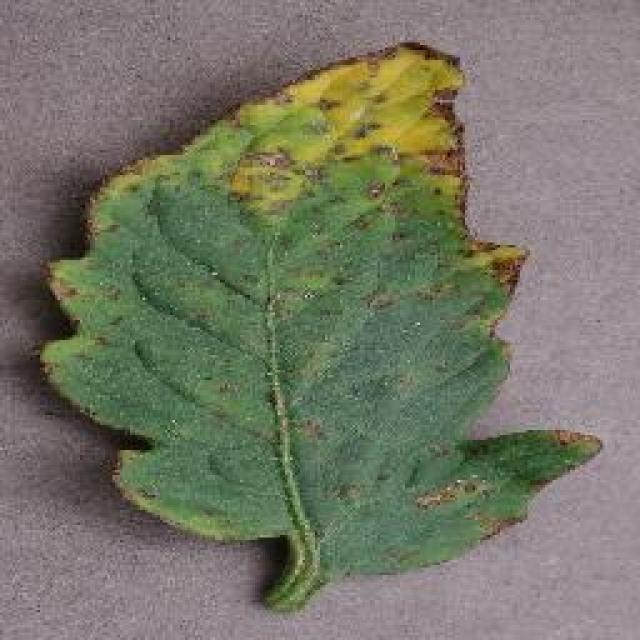Tom_Bacterial_spot: (215, 35, 491, 211), (205, 232, 344, 462), (340, 216, 540, 359), (423, 428, 615, 550)
